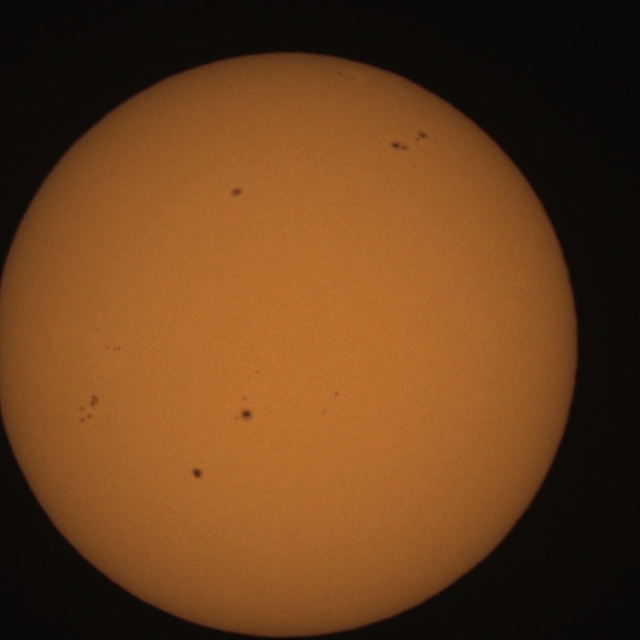sunspot: (390, 131, 428, 153), (77, 393, 100, 423), (234, 401, 254, 424), (390, 140, 409, 153), (190, 466, 205, 481), (414, 130, 429, 144), (229, 186, 243, 198), (105, 344, 122, 352), (333, 390, 341, 398), (242, 395, 248, 401)
